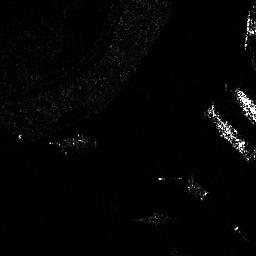ship: (204, 106, 250, 160), (231, 87, 256, 125)
